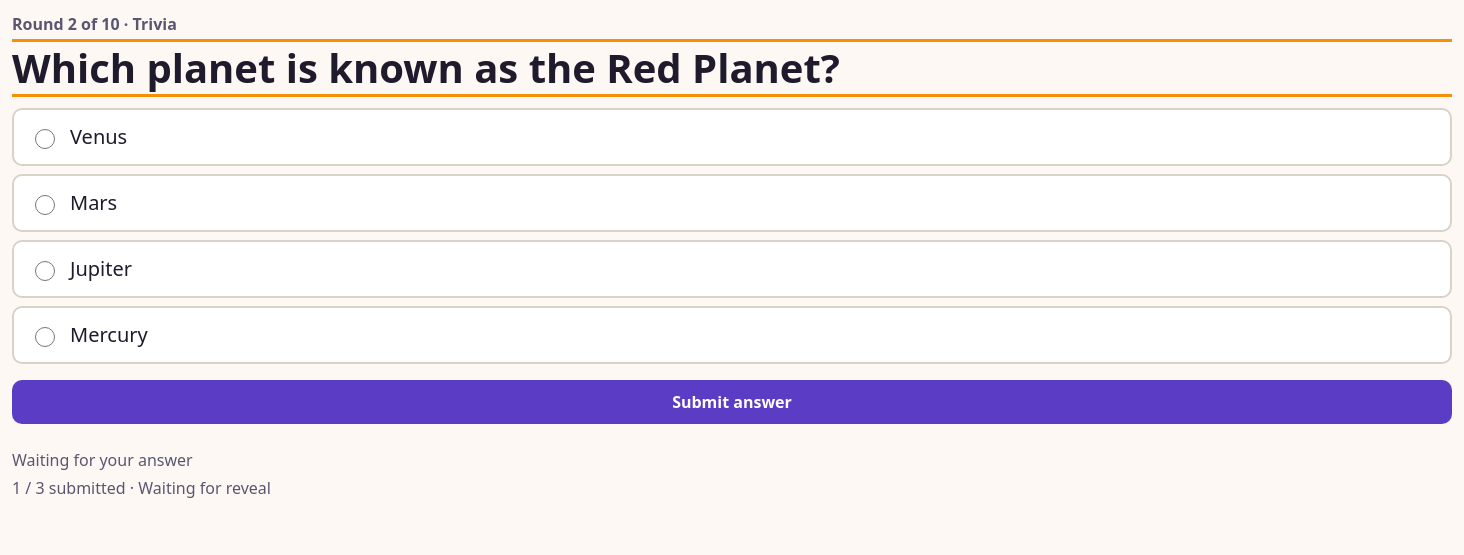
Test case: RoundView: trivia › asks for a choice before submitting
Click the button "Submit answer" at (732, 402), box 12,380 -> 1452,424
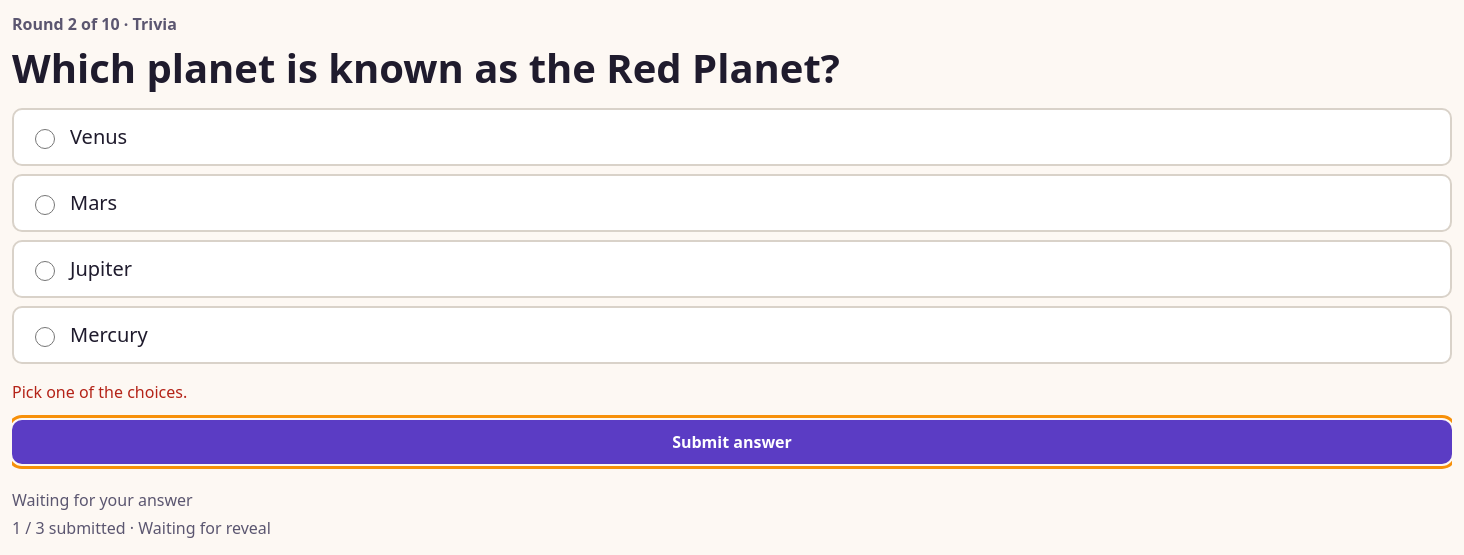
Now the message "Pick one of the choices." is shown, box 12,381 -> 187,403
